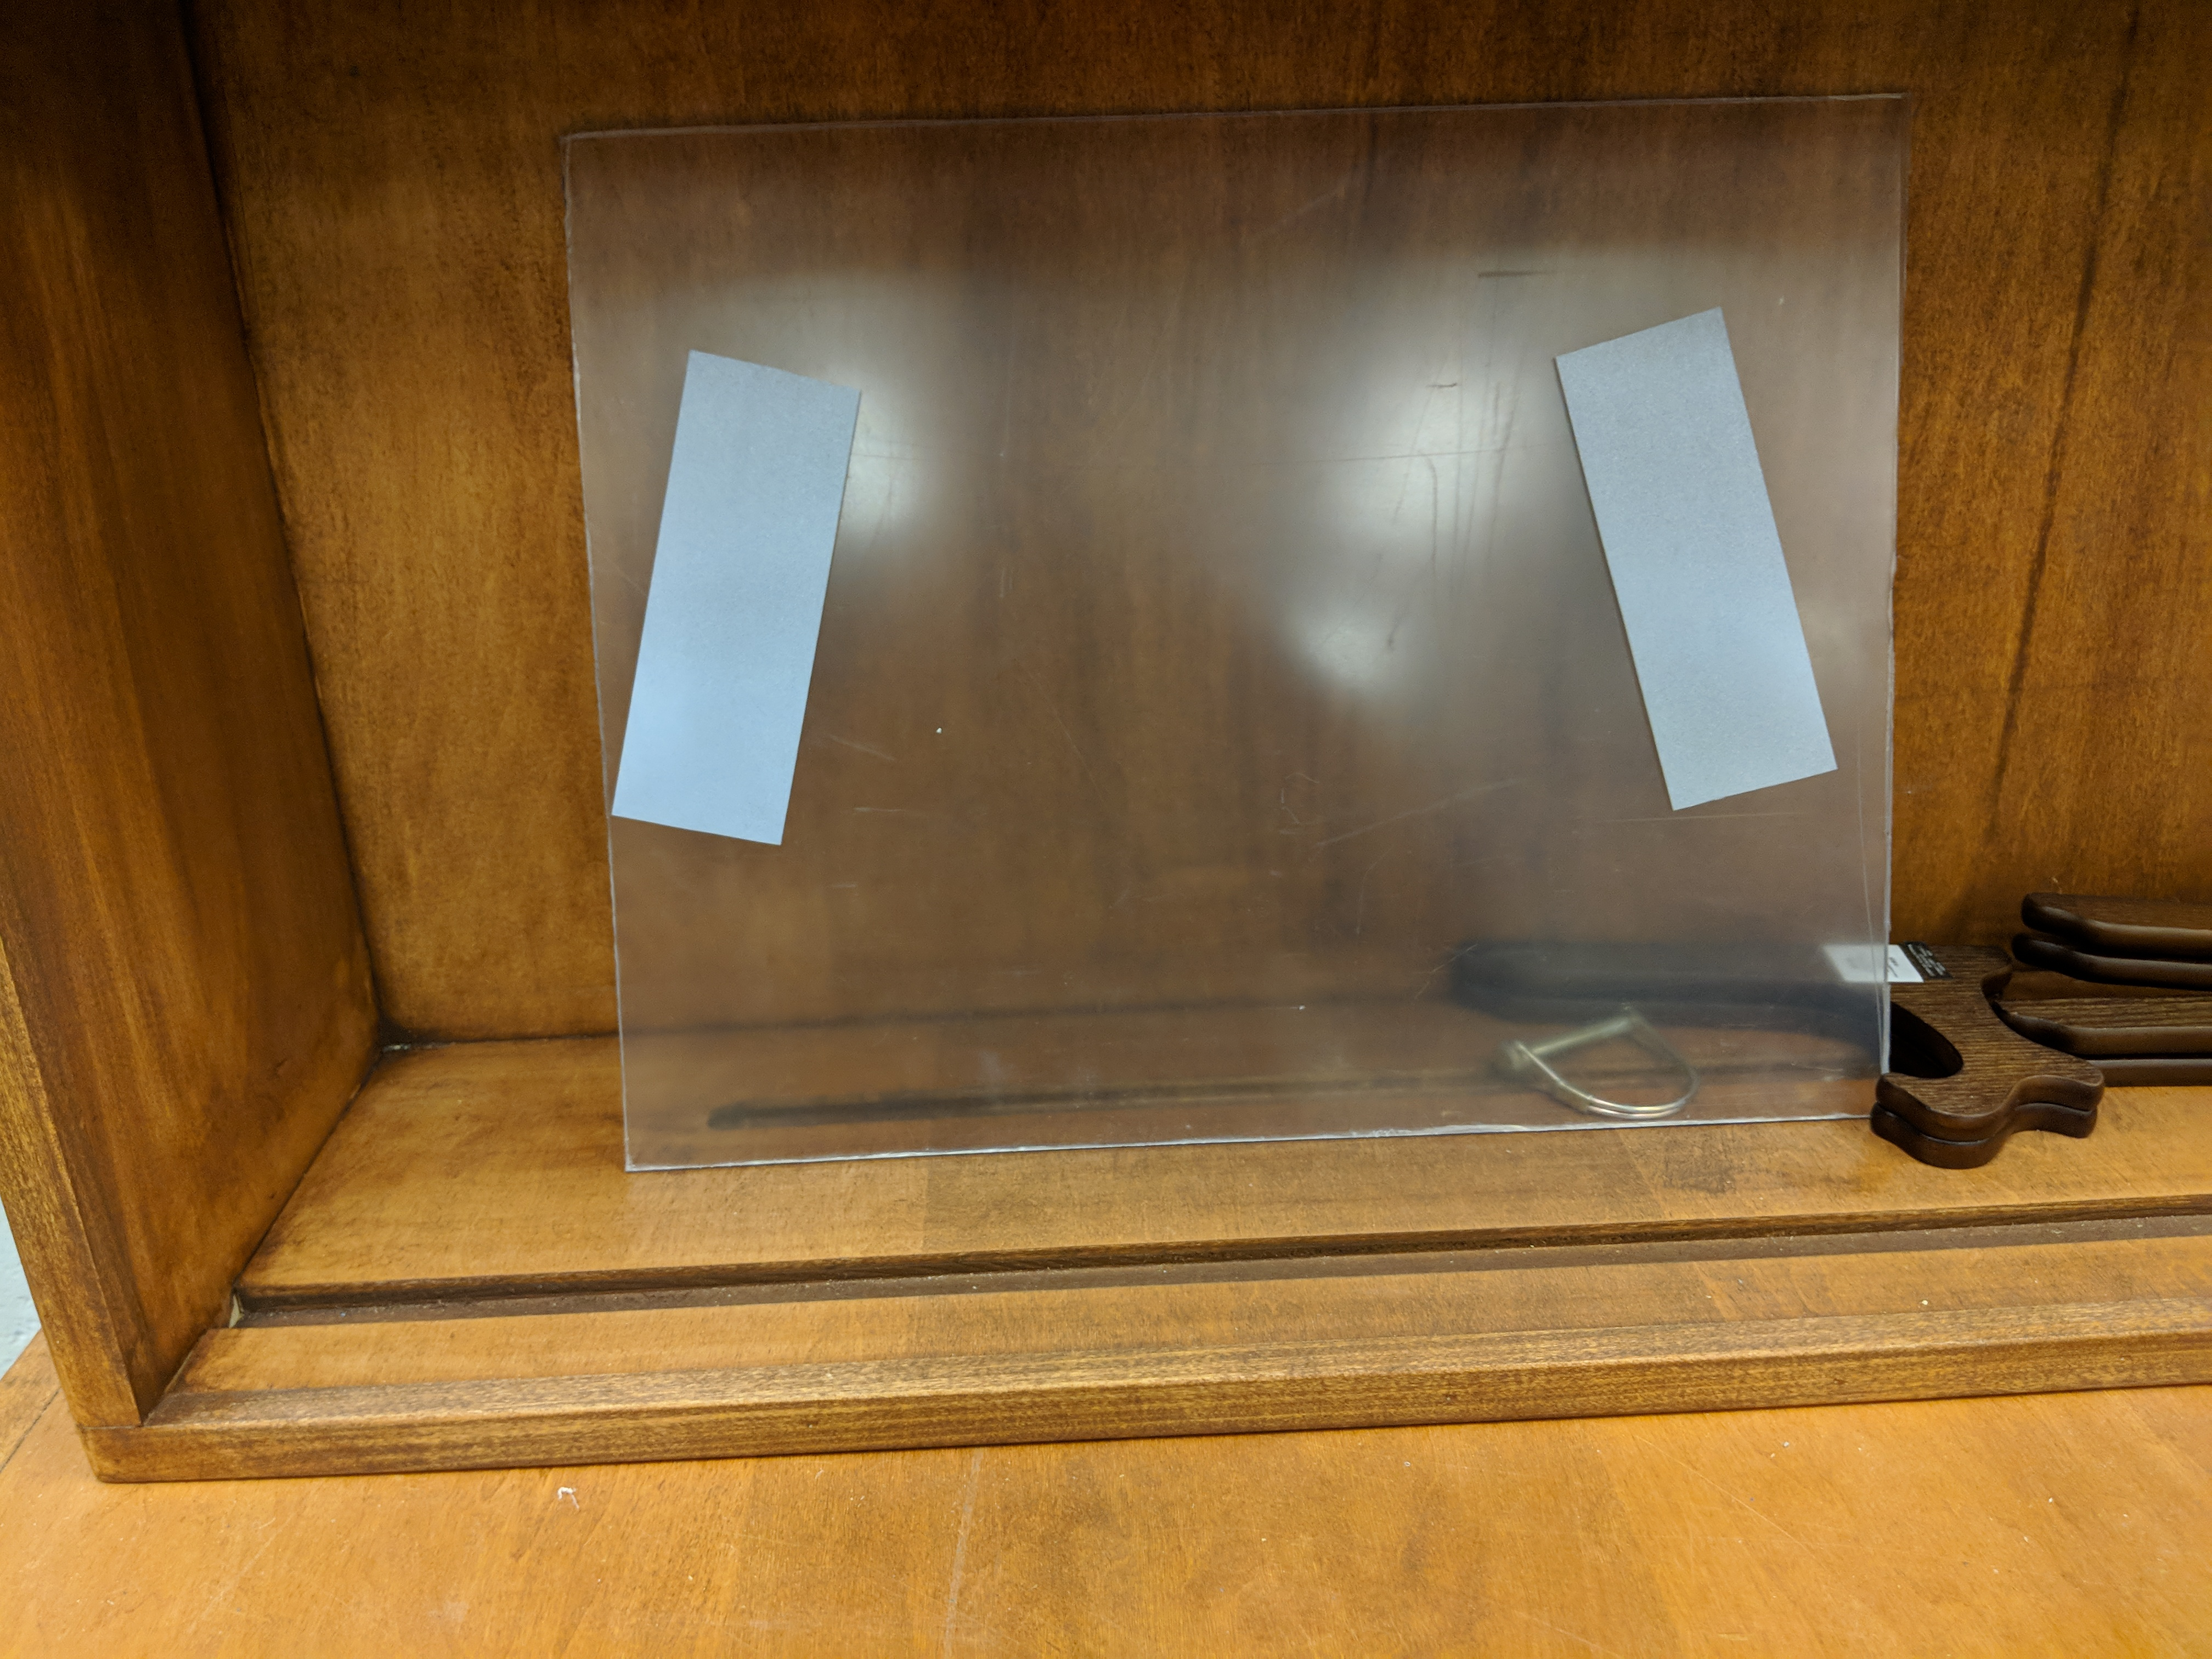vision_target: (597, 300, 1848, 852)
